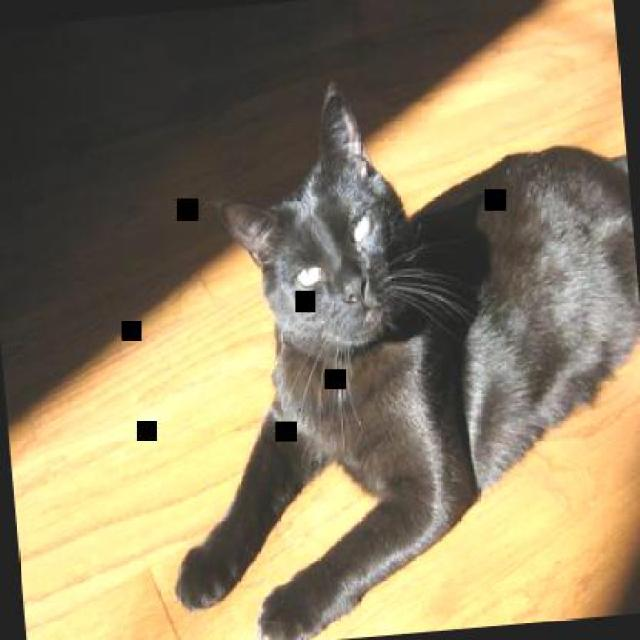cat: (130, 59, 638, 638)
